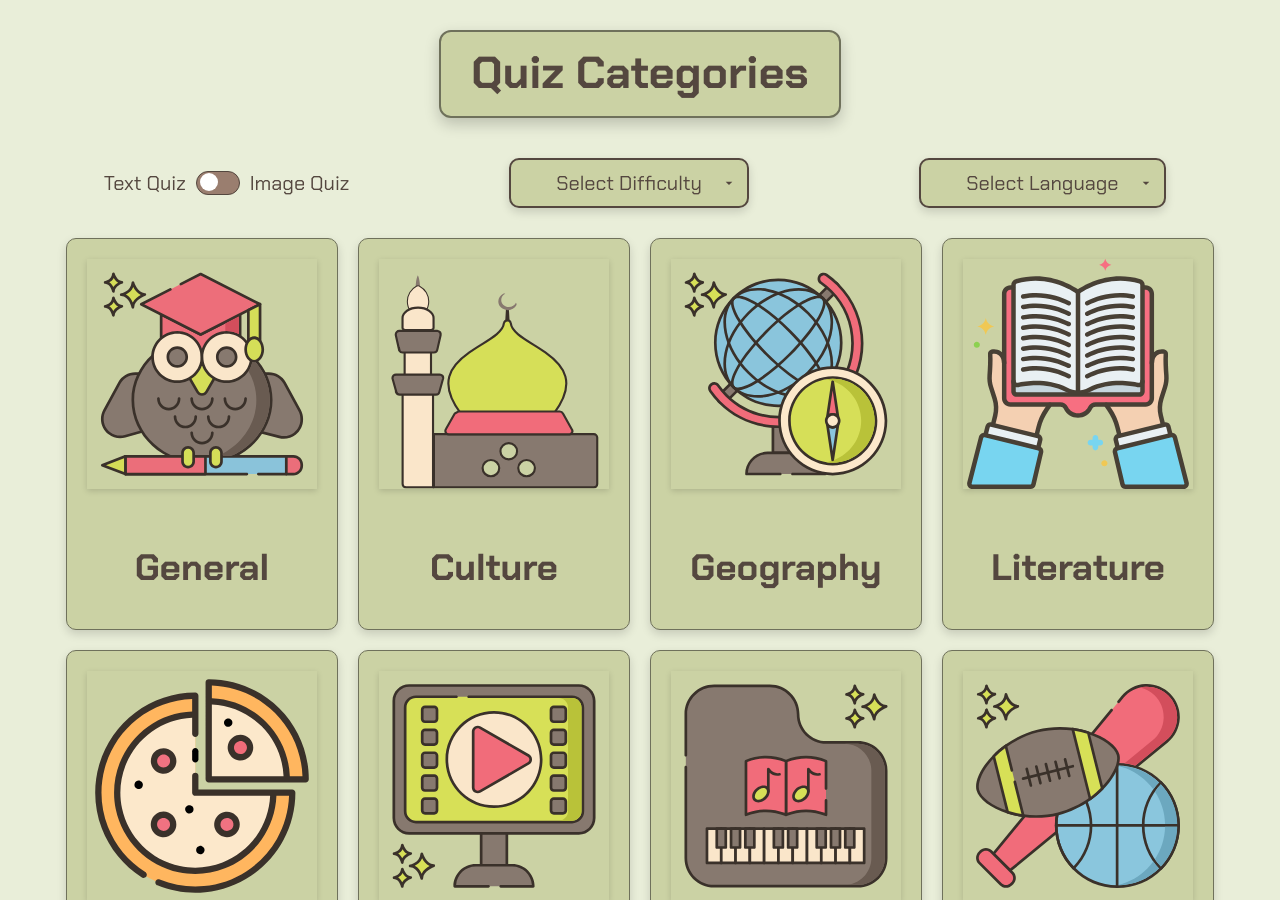
Test: QuizCategory › shows error popup if difficulty/language not selected
Click the picture with alt text "An owl wearing a graduation cap sitting on a pencil, representing the General Knowledge category": (202, 374) [87,259,317,489]
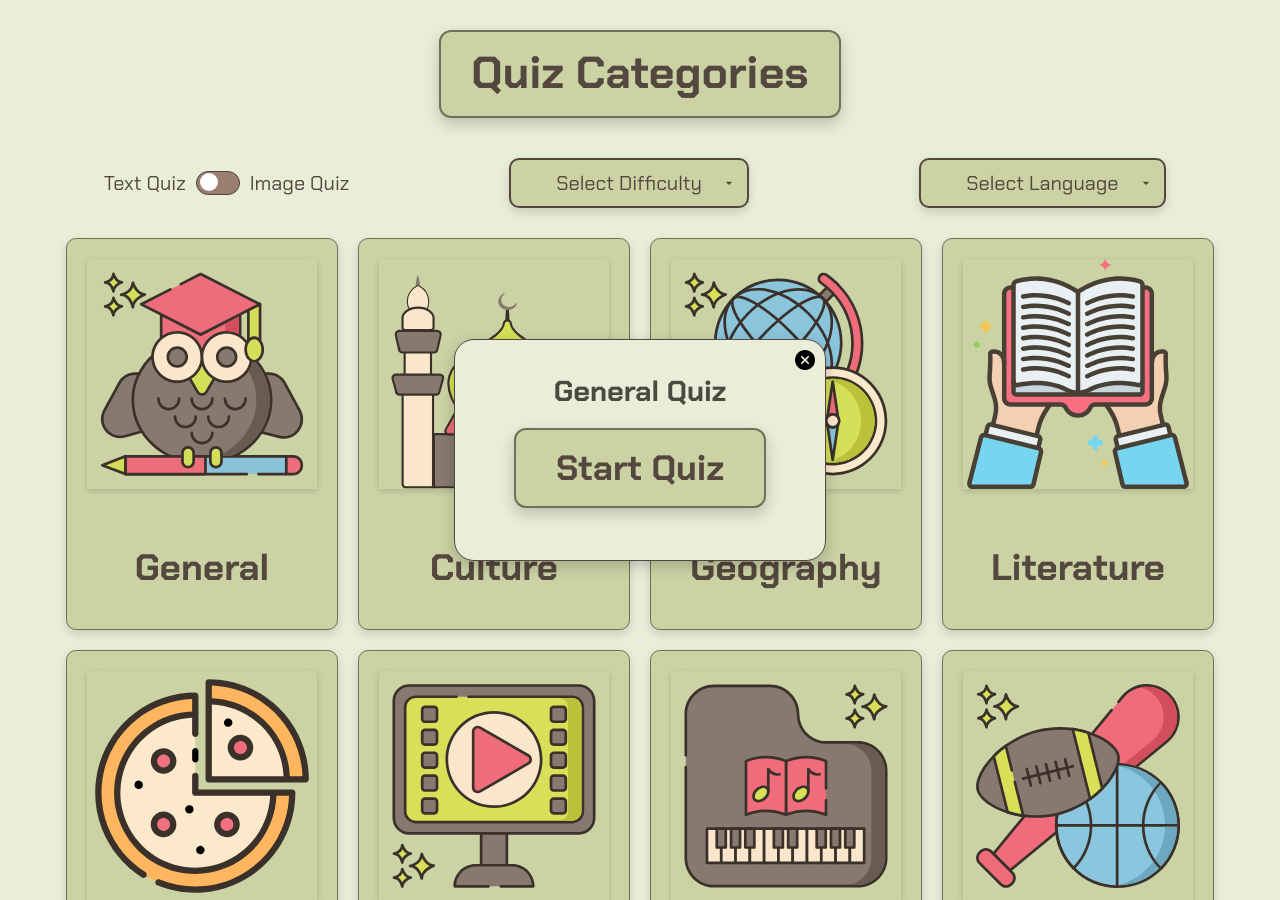
Click the button "Start Quiz": (640, 468) [514,428,766,508]
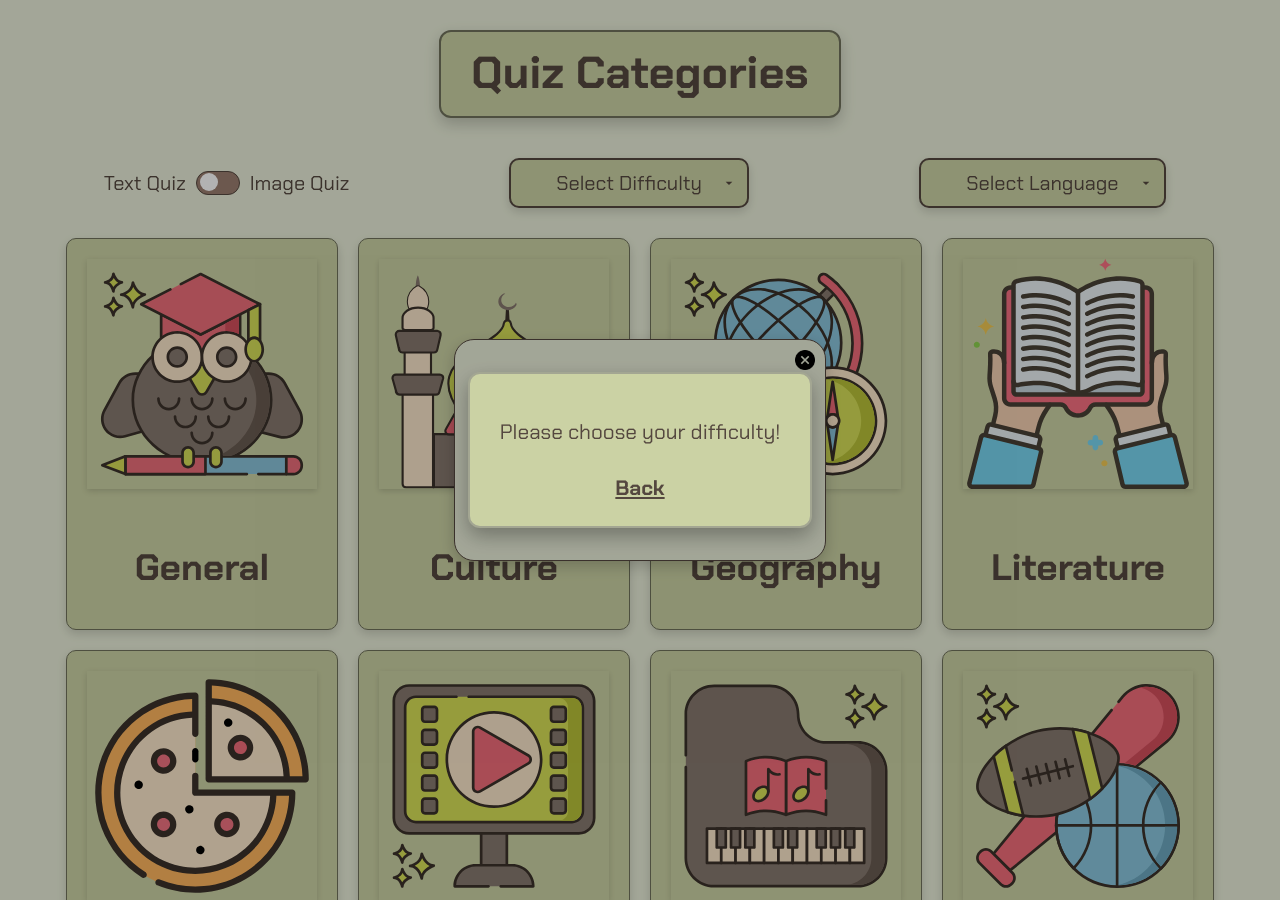
Expected: the text "Please choose your difficulty!" is shown, [500,420,780,445]
